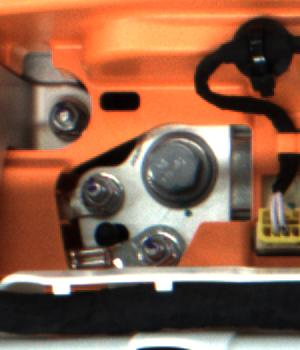nut_b: (133, 126, 220, 216)
screw_s: (127, 231, 179, 267), (42, 95, 85, 136), (77, 172, 117, 211)
